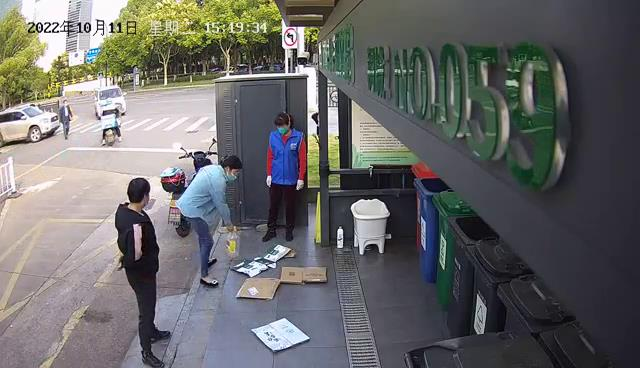person: (114, 176, 171, 366)
suliaozhipin: (224, 222, 235, 255)
worker: (175, 154, 244, 289), (261, 111, 306, 243)
zhizhipin: (251, 316, 311, 353), (229, 244, 297, 274), (234, 277, 281, 300), (280, 265, 328, 283)
